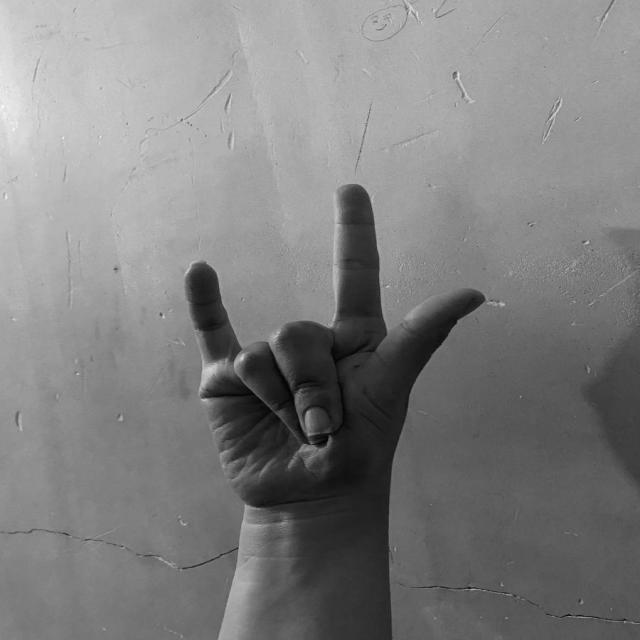i love you: (173, 175, 496, 517)
